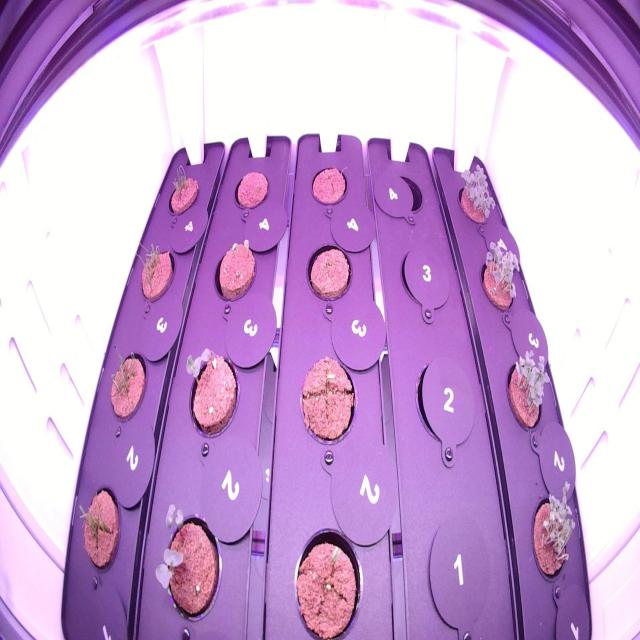empty_pod: (423, 509, 499, 634), (411, 352, 478, 454), (396, 242, 454, 320), (379, 168, 427, 229)
germination: (146, 494, 223, 627), (286, 522, 366, 639), (174, 332, 244, 450), (530, 474, 589, 592), (73, 476, 126, 584), (503, 339, 553, 436), (101, 342, 151, 426), (210, 234, 260, 312), (480, 234, 524, 321), (453, 153, 500, 232), (130, 237, 179, 308), (161, 157, 202, 226)
pod: (295, 348, 361, 450), (303, 234, 356, 310), (228, 161, 274, 221), (306, 160, 352, 215)
